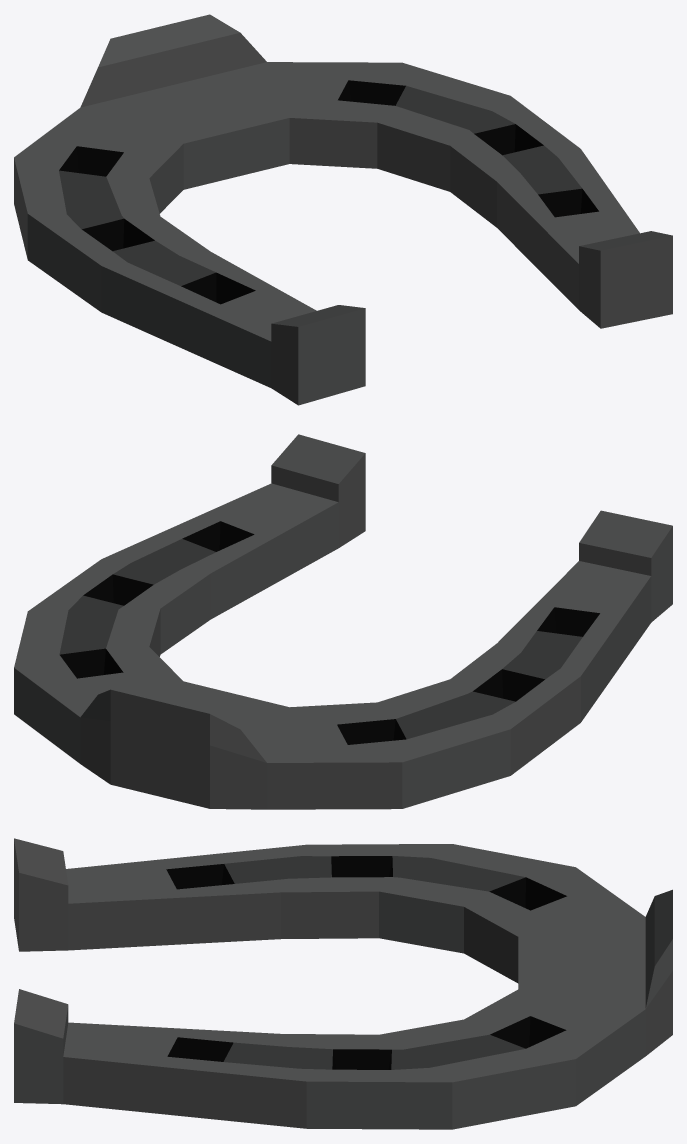
The model's file is horseshoe.fbx.
3 renders of one model, top to bottom at view 1: azimuth 30°, elevation 25°; view 2: azimuth 150°, elevation 25°; view 3: azimuth 270°, elevation 25°, orthographic.
Parts seen in each view (by area): view 1: horseshoe; view 2: horseshoe; view 3: horseshoe.
Part boxes in pixels (box(x1,y1,x2,y2)): horseshoe: box(14, 14, 672, 405); horseshoe: box(14, 434, 672, 809); horseshoe: box(14, 838, 672, 1129).
Size of the model in its own units: 15.66 by 2.95 by 18.28.
